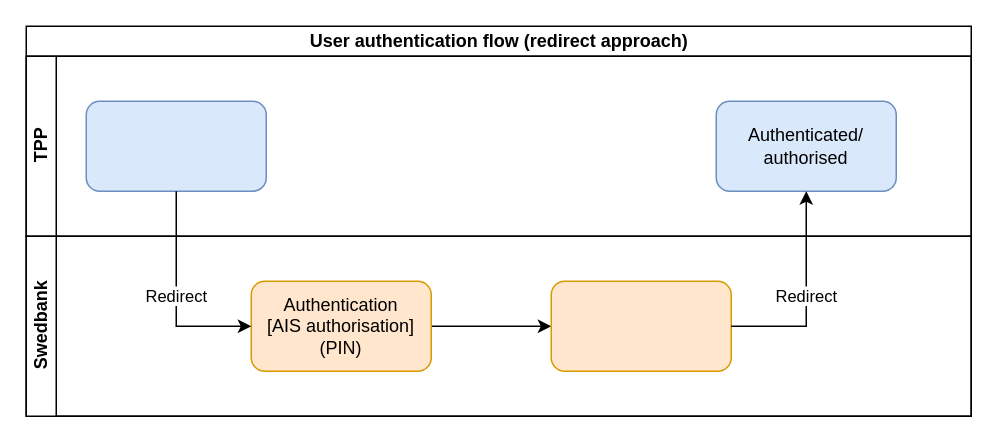
Image size: 998x443. Some labels were removed from this diagram. The centre of each missing label's shape, as x and y in pixels:
"Select Bank" goes at (x=175, y=145).
"Select Customer Profile" goes at (x=640, y=325).
